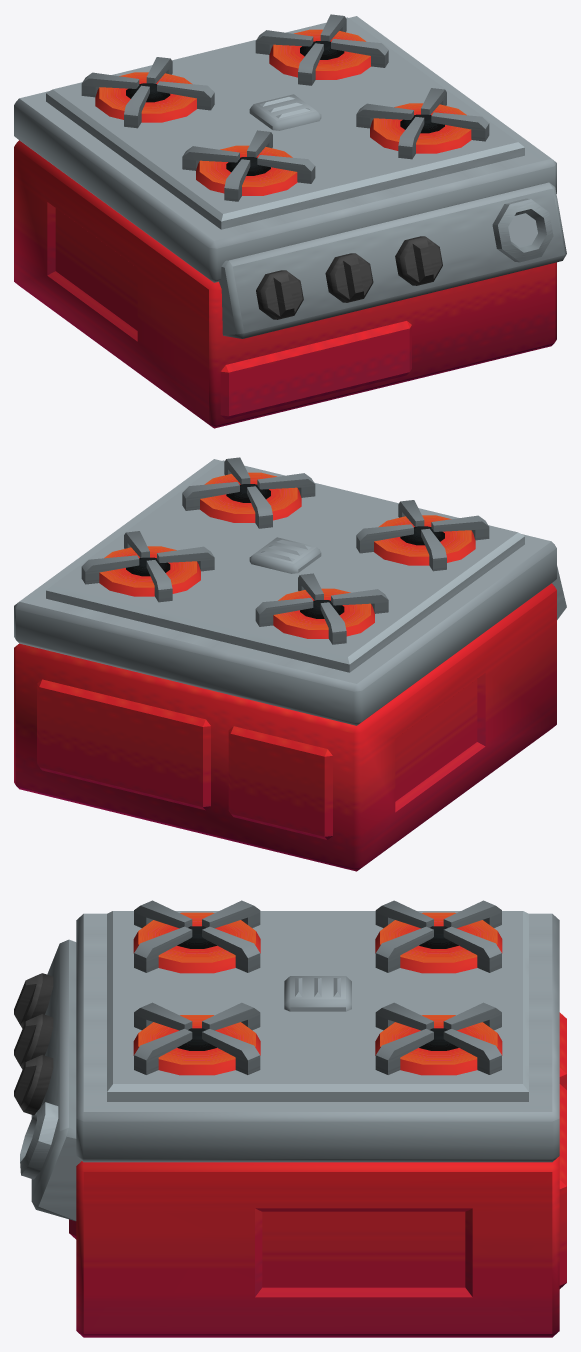
File: stove_multi.gltf
The picture shows the model from 3 angles, top to bottom: view 1: azimuth 30°, elevation 25°; view 2: azimuth 150°, elevation 25°; view 3: azimuth 270°, elevation 25°; orthographic projection. The views are drawn at different scales.
Visible parts, largest first — view 1: stove_multi; view 2: stove_multi; view 3: stove_multi.
Part boxes in pixels (x1=…): stove_multi: x1=14, y1=14, x2=566, y2=428; stove_multi: x1=14, y1=457, x2=566, y2=871; stove_multi: x1=14, y1=900, x2=566, y2=1337.
Bounding box in the file's own units: 2 × 1.2 × 2.29.
1 material, 1 textured.
